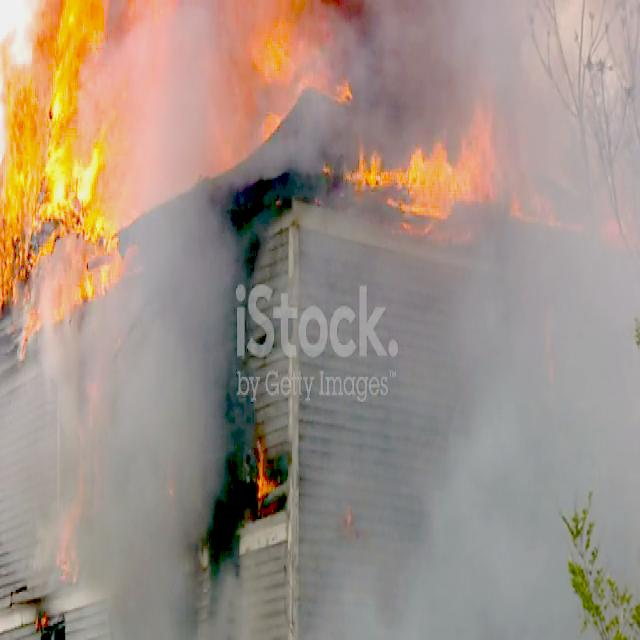fire: (0, 0, 127, 313), (355, 75, 549, 226), (218, 0, 345, 168)
smoke: (102, 322, 214, 614)
